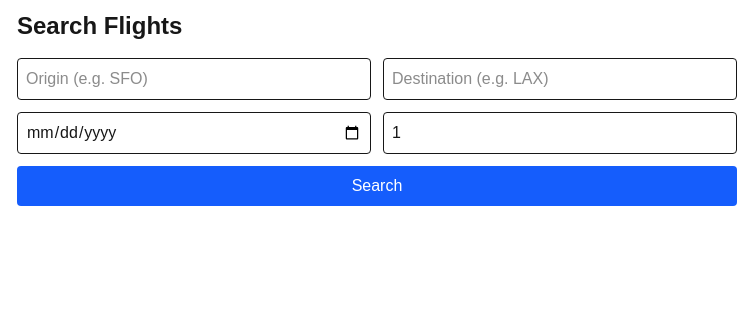
Test: submits valid form and shows results
Type "SFO" into the field with placeholder "Origin (e.g. SFO)" at (194, 79), box [17,58,371,100]
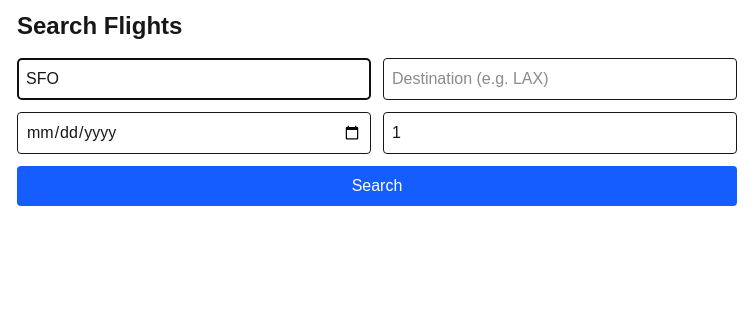
Type "LAX" into the field with placeholder "Destination (e.g. LAX)" at (560, 79), box [383,58,737,100]
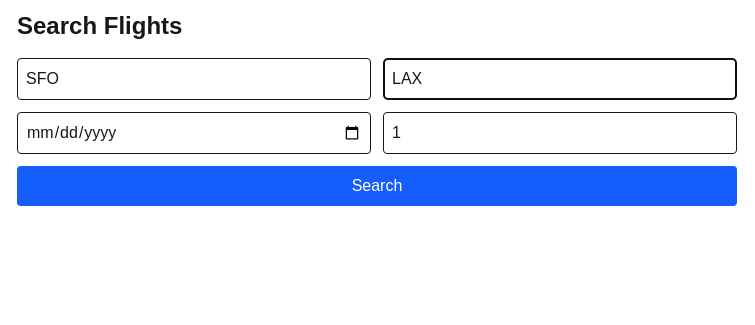
Type "2025-10-01" into the date field named "depart date" at (194, 133), box [17,112,371,154]
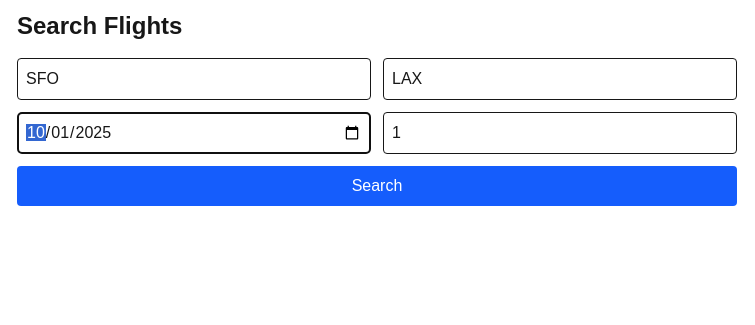
Click the button "Search" at (377, 186), box [17,166,737,206]
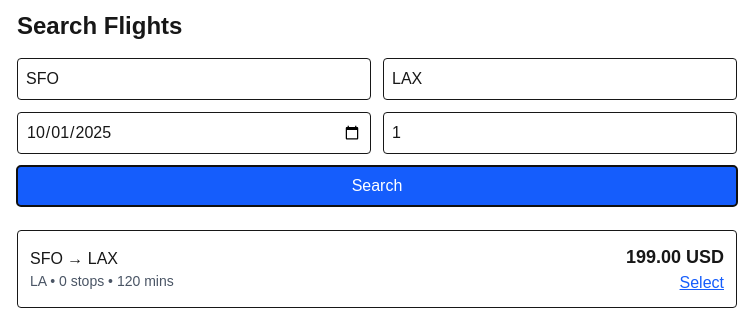
Result: the text "199.00 USD" is shown at [626,243,724,271]
